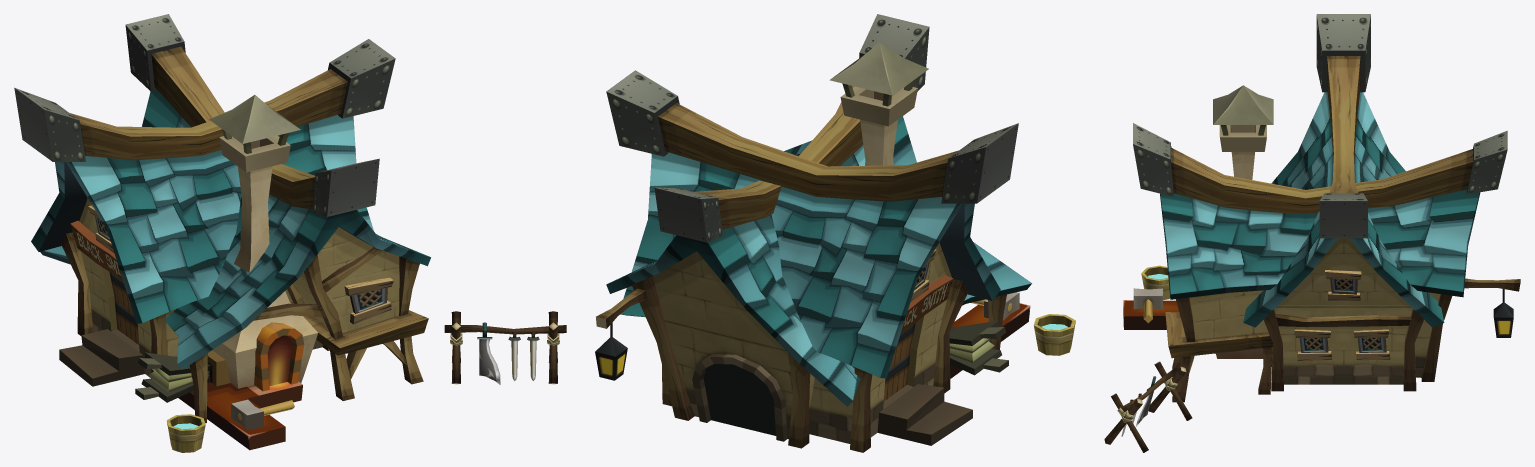
Rendered from Black_smith.fbx.
3 views of the same model, side by side, from view 1: azimuth 30°, elevation 25°; view 2: azimuth 150°, elevation 25°; view 3: azimuth 270°, elevation 25° (orthographic). The views are drawn at different scales.
Visible parts, largest first — view 1: Black_smith; view 2: Black_smith; view 3: Black_smith.
Boxes of the visible parts, x1=… form: Black_smith: x1=14, y1=14, x2=566, y2=452; Black_smith: x1=595, y1=14, x2=1075, y2=452; Black_smith: x1=1104, y1=14, x2=1520, y2=452.
Bounding box in the file's own units: 31.02 × 20.73 × 29.77.
